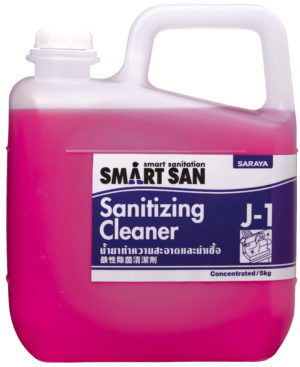Cleaning_solution: (5, 2, 300, 367)
